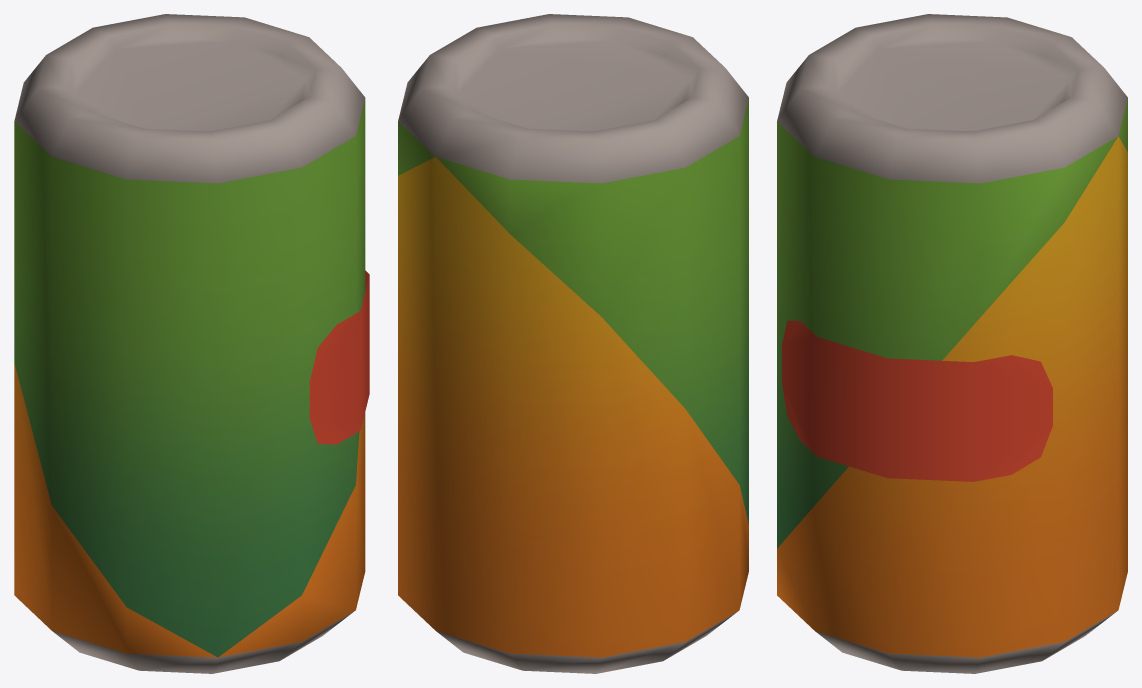
The model's file is Cold Drink Cane.fbx.
The picture shows the model from 3 angles, left to right: view 1: azimuth 30°, elevation 25°; view 2: azimuth 150°, elevation 25°; view 3: azimuth 270°, elevation 25°; orthographic projection.
Parts seen in each view (by area): view 1: Cold Drink Cane; view 2: Cold Drink Cane; view 3: Cold Drink Cane.
Part boxes in pixels (x1=…): Cold Drink Cane: x1=14, y1=14, x2=369, y2=673; Cold Drink Cane: x1=398, y1=14, x2=748, y2=673; Cold Drink Cane: x1=777, y1=14, x2=1127, y2=673.
Bounding box in the file's own units: 14.99 × 25.04 × 14.84.
